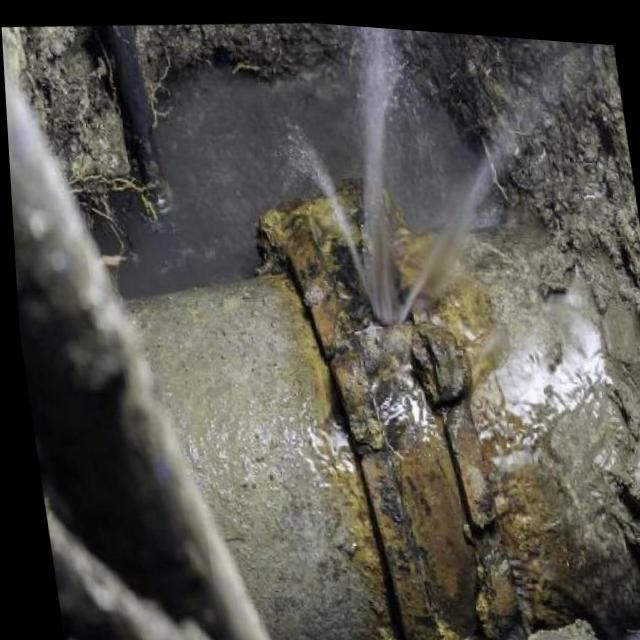leak: (250, 25, 598, 343)
